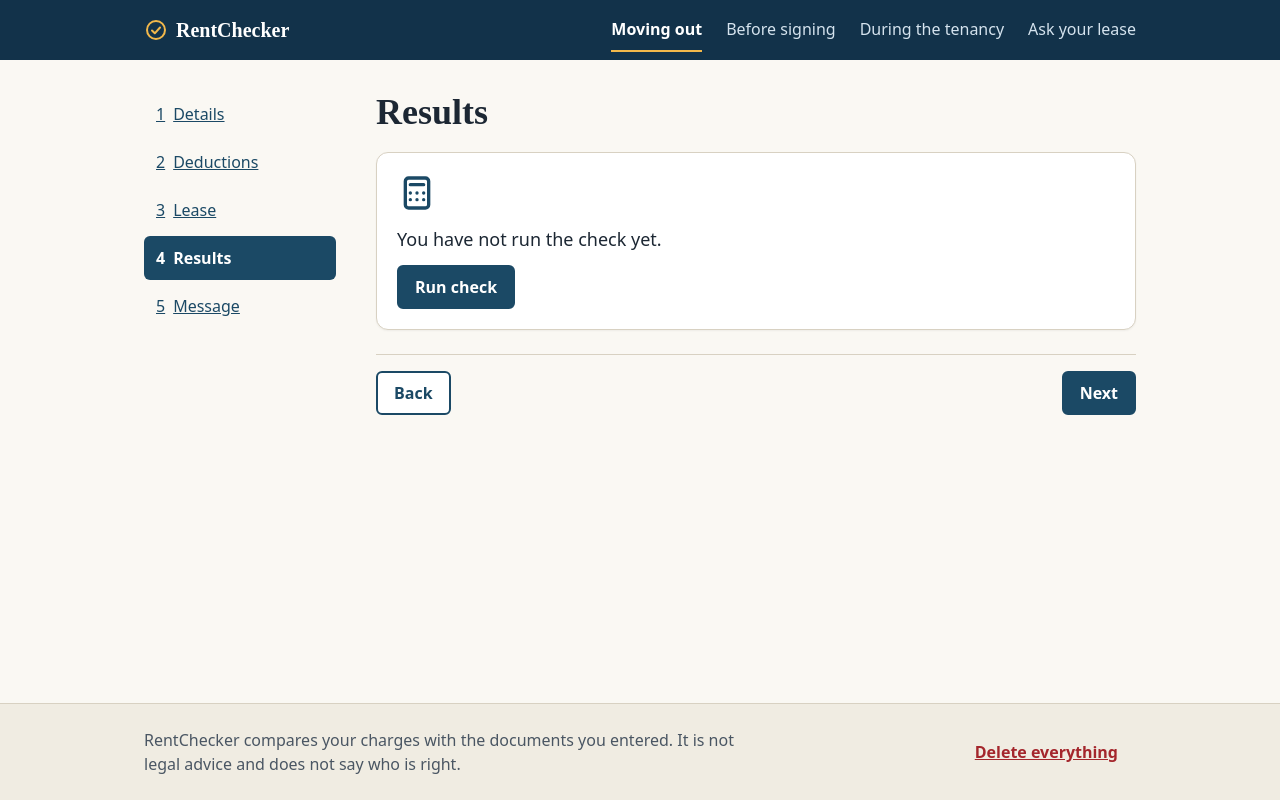
Results step states › F1-AC5 deductions above the deposit show the excess in a notice (T-157)
The image size is (1280, 800).
What coordinates should you click on to do the following:
click the button "Run check"
I would click on:
 (456, 287)
Its box is [397,265,515,309].
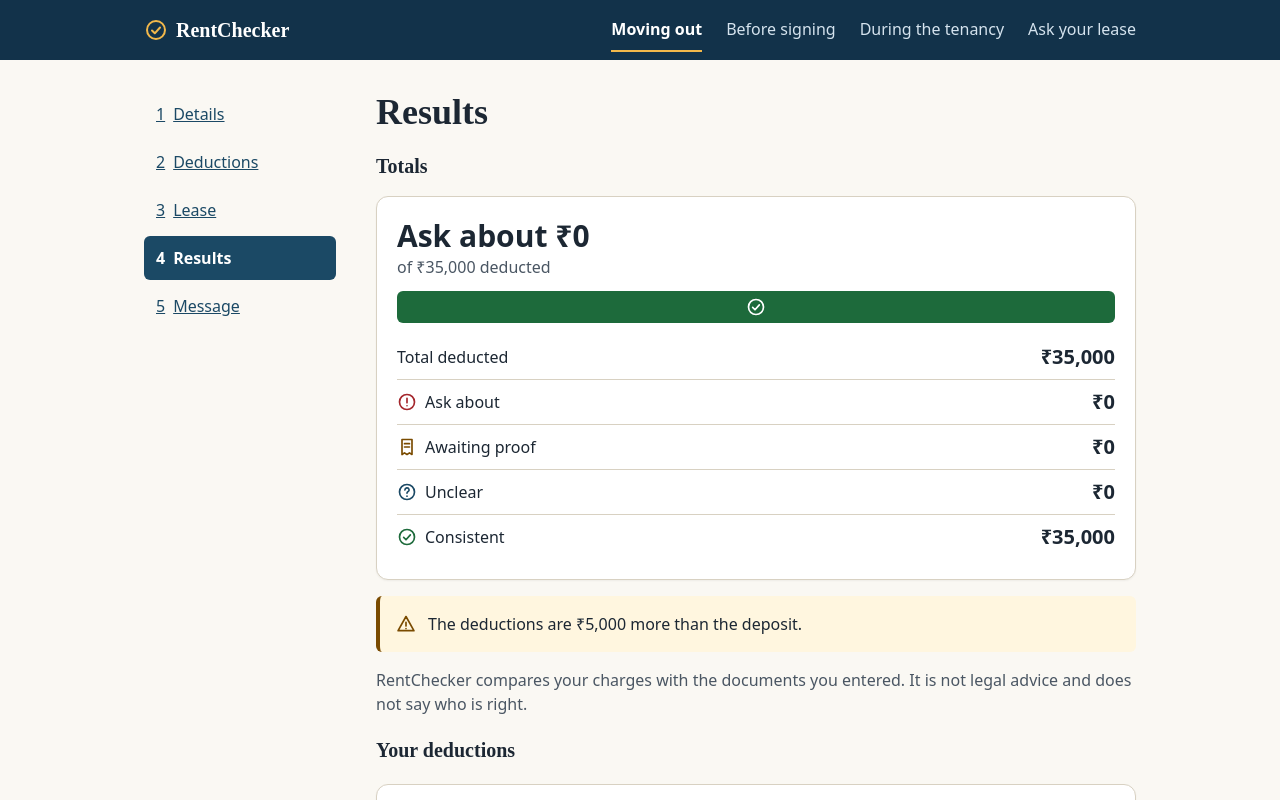
Now the text "The deductions are ₹5,000 more than the deposit." is shown, box [428,612,802,636]
